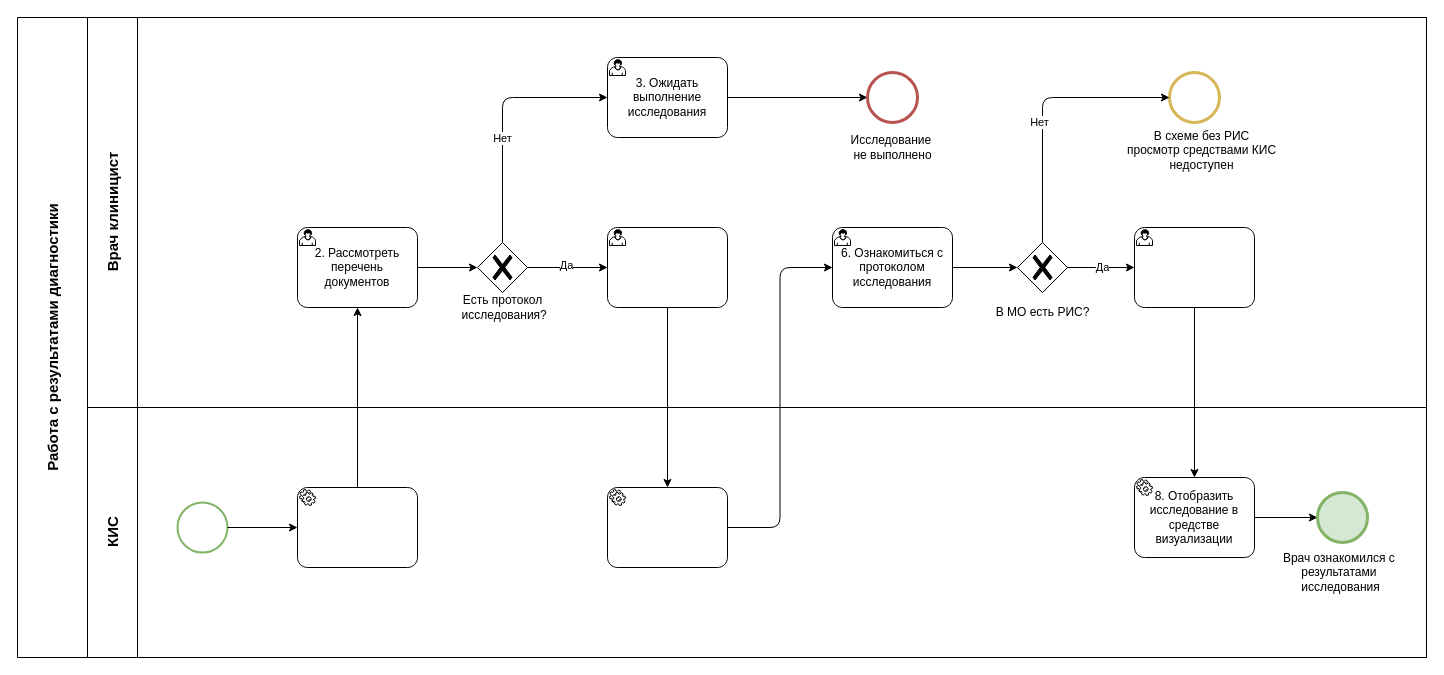
The diagram is 1444 pixels wide and 675 high, and some of its shapes have lost their labels. Here are the shapes that lost their labels. From the top down, the centre of each, then its label:
At (667,267): "4. Запросить просмотр документа".
At (1194,267): "7. Запросить просмотр снимков".
At (357,527): "1. Отобразить перечень документов".
At (667,527): "5. Отобразить протокол исследования".
